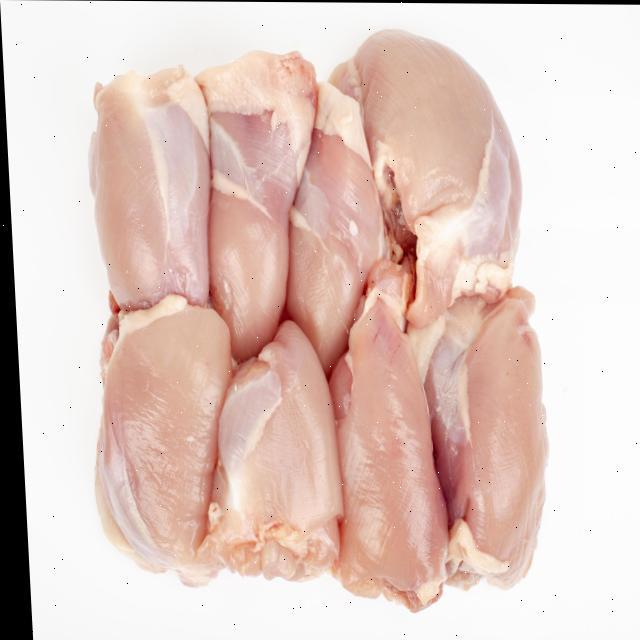thigh: (146, 61, 333, 332), (336, 28, 522, 297), (69, 27, 217, 350), (50, 314, 241, 562), (188, 320, 348, 605), (416, 308, 574, 590), (321, 293, 458, 617), (228, 82, 366, 350)
